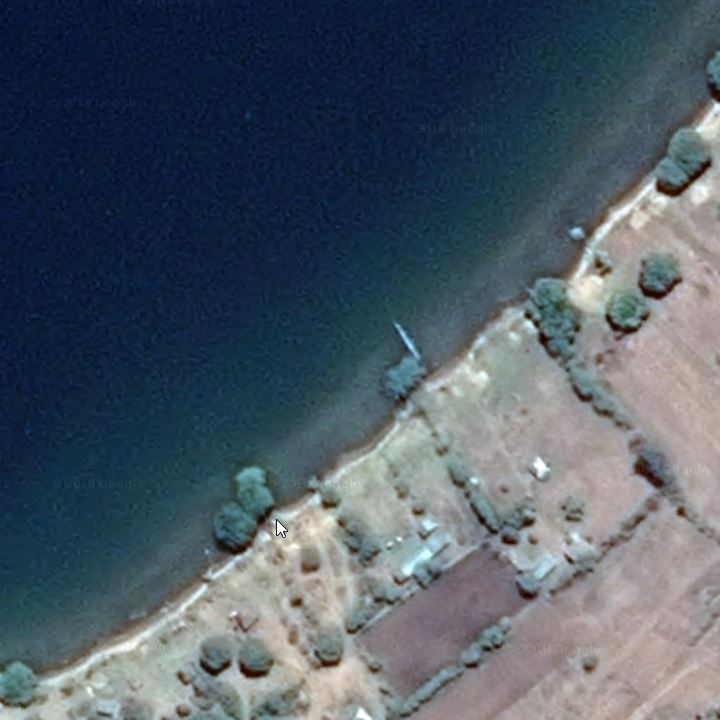boat: (387, 315, 428, 365)
